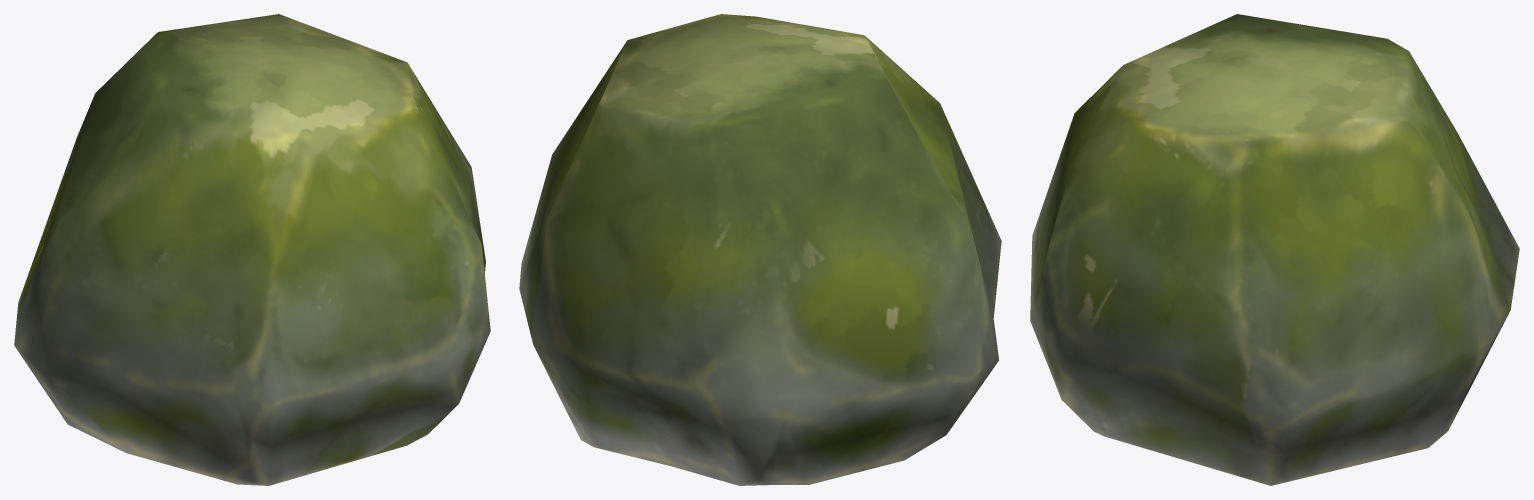
The model's file is Inter_stonesmall.fbx.
The picture shows the model from 3 angles, left to right: view 1: azimuth 30°, elevation 25°; view 2: azimuth 150°, elevation 25°; view 3: azimuth 270°, elevation 25°; orthographic projection. The views are drawn at different scales.
Parts seen in each view (by area): view 1: Object001; view 2: Object001; view 3: Object001.
Boxes of the visible parts, left/top/right/bottom form: Object001: left=14, top=14, right=490, bottom=485; Object001: left=519, top=14, right=1001, bottom=485; Object001: left=1030, top=14, right=1519, bottom=485.
Bounding box in the file's own units: 63.53 × 46.1 × 59.4.
1 material, 1 textured.
